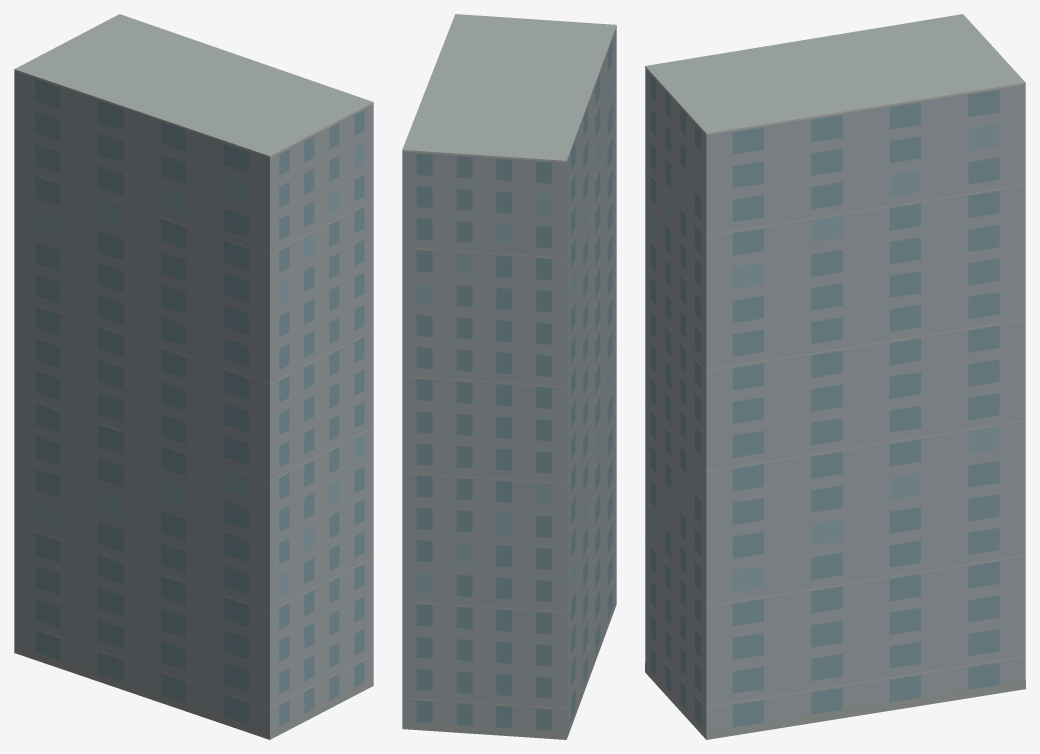
File: survey-upis-32867495.glb
3 renders of one model, left to right at view 1: azimuth 30°, elevation 25°; view 2: azimuth 150°, elevation 25°; view 3: azimuth 270°, elevation 25°, orthographic. The views are drawn at different scales.
Visible parts, largest first — view 1: survey-upis-32867495.tmp; view 2: survey-upis-32867495.tmp; view 3: survey-upis-32867495.tmp.
Boxes of the visible parts, left/top/right/bottom form: survey-upis-32867495.tmp: left=14, top=14, right=373, bottom=739; survey-upis-32867495.tmp: left=402, top=14, right=616, bottom=739; survey-upis-32867495.tmp: left=645, top=14, right=1025, bottom=739.
Size of the model in its own units: 35.03 by 82.8 by 47.13.
